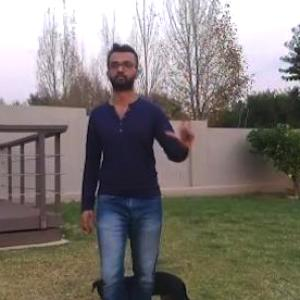land_hand: (161, 105, 202, 149)
